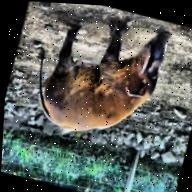boar: (14, 1, 192, 172)
